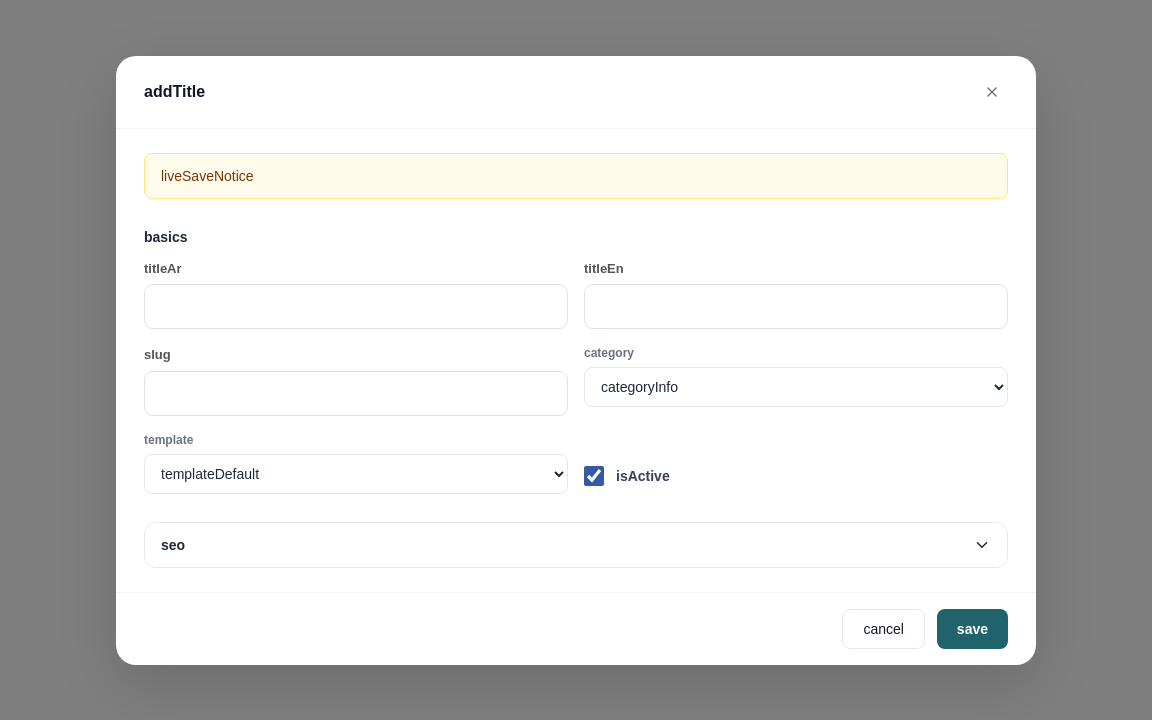
CmsPageDialog homepage behavior › clears and unlocks the protected slug when changing back to a regular template
Select "templateHome" in the dropdown below "template": coordinates (356, 474) [144,454,568,494]
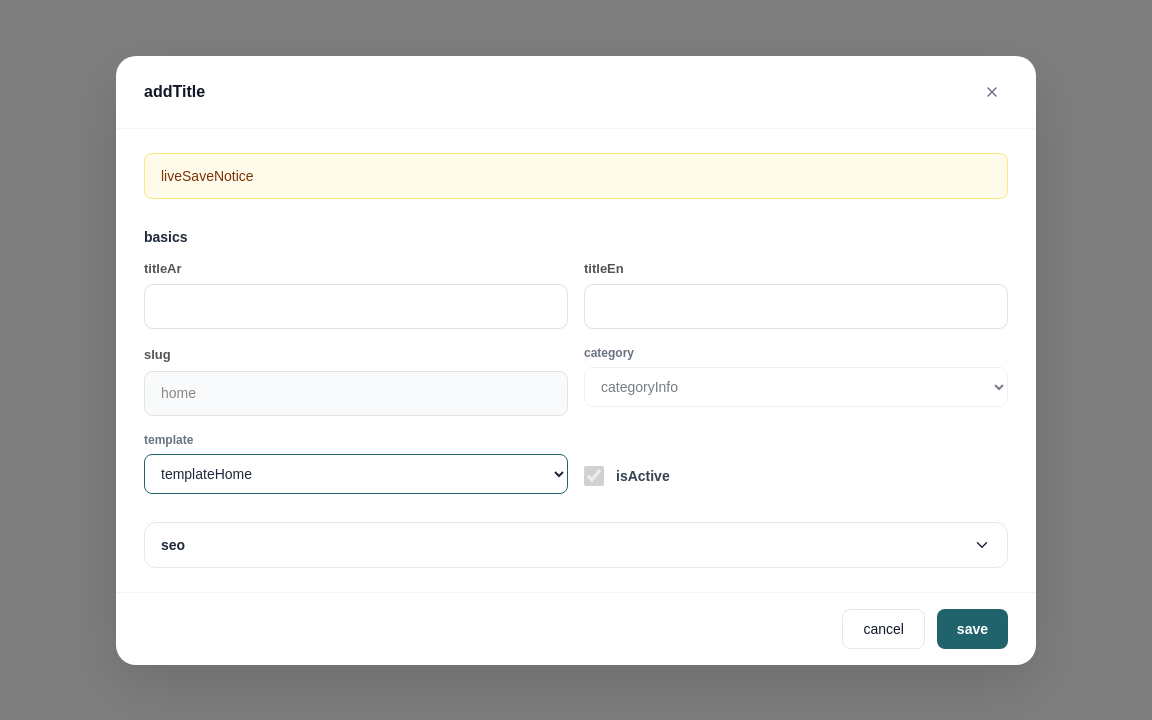
Select "templateDefault" in the dropdown below "template": coordinates (356, 474) [144,454,568,494]
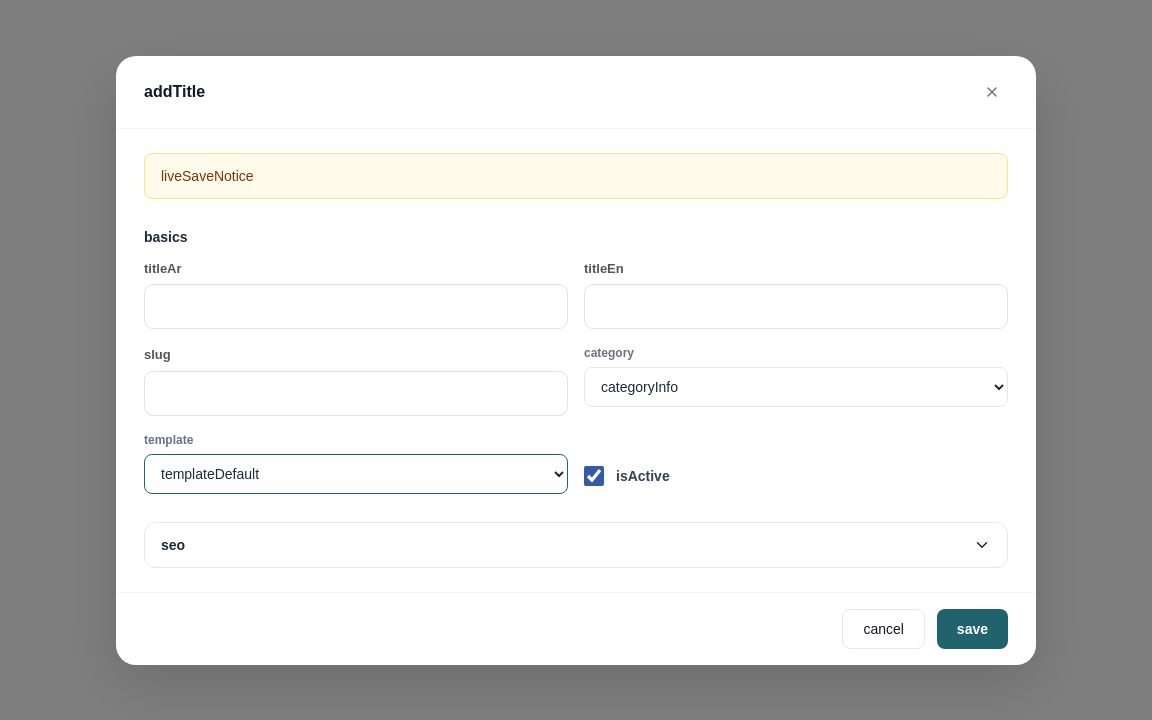
Now the field labelled "slug" is empty, box [144,370,568,416]
Now the checkbox labelled "isActive" is enabled, box [584,466,604,486]
